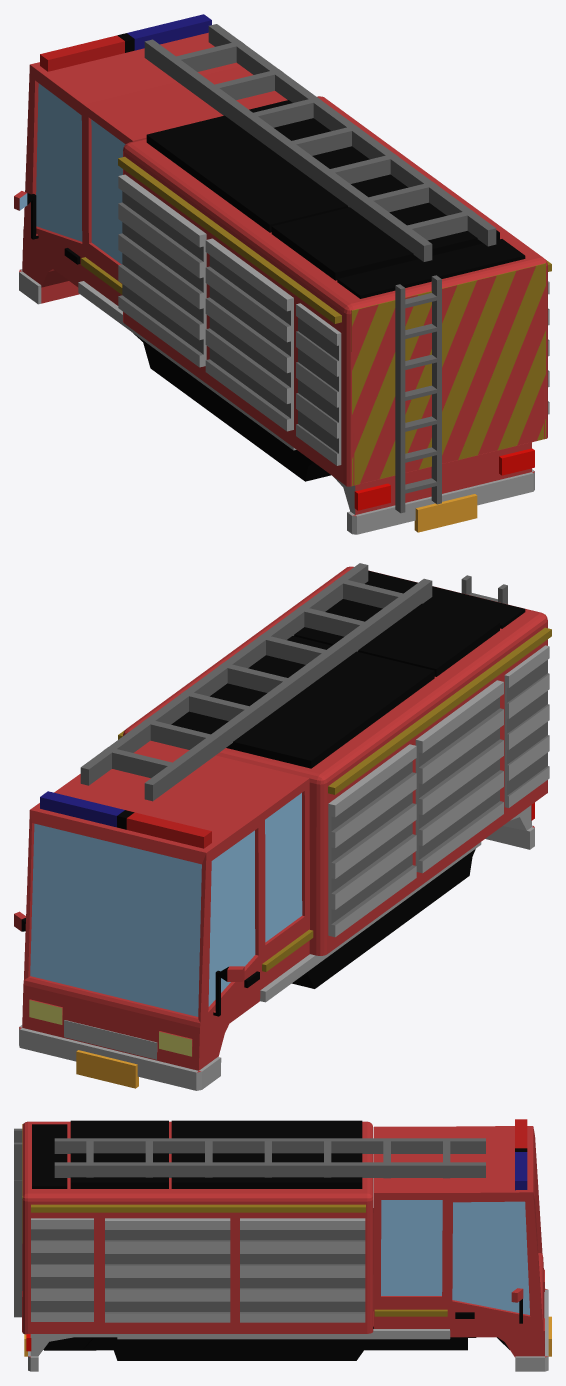
The model's file is fireEngine.glb.
3 renders of one model, top to bottom at view 1: azimuth 30°, elevation 25°; view 2: azimuth 150°, elevation 25°; view 3: azimuth 270°, elevation 25°, orthographic. The views are drawn at different scales.
Visible parts, largest first — view 1: Car.004; view 2: Car.004; view 3: Car.004.
Boxes of the visible parts, box(x1,y1,x2,y2) form: Car.004: box(14, 14, 551, 534); Car.004: box(14, 563, 551, 1090); Car.004: box(14, 1119, 551, 1371).
Bounding box in the file's own units: 2.36 × 2.62 × 6.22.
